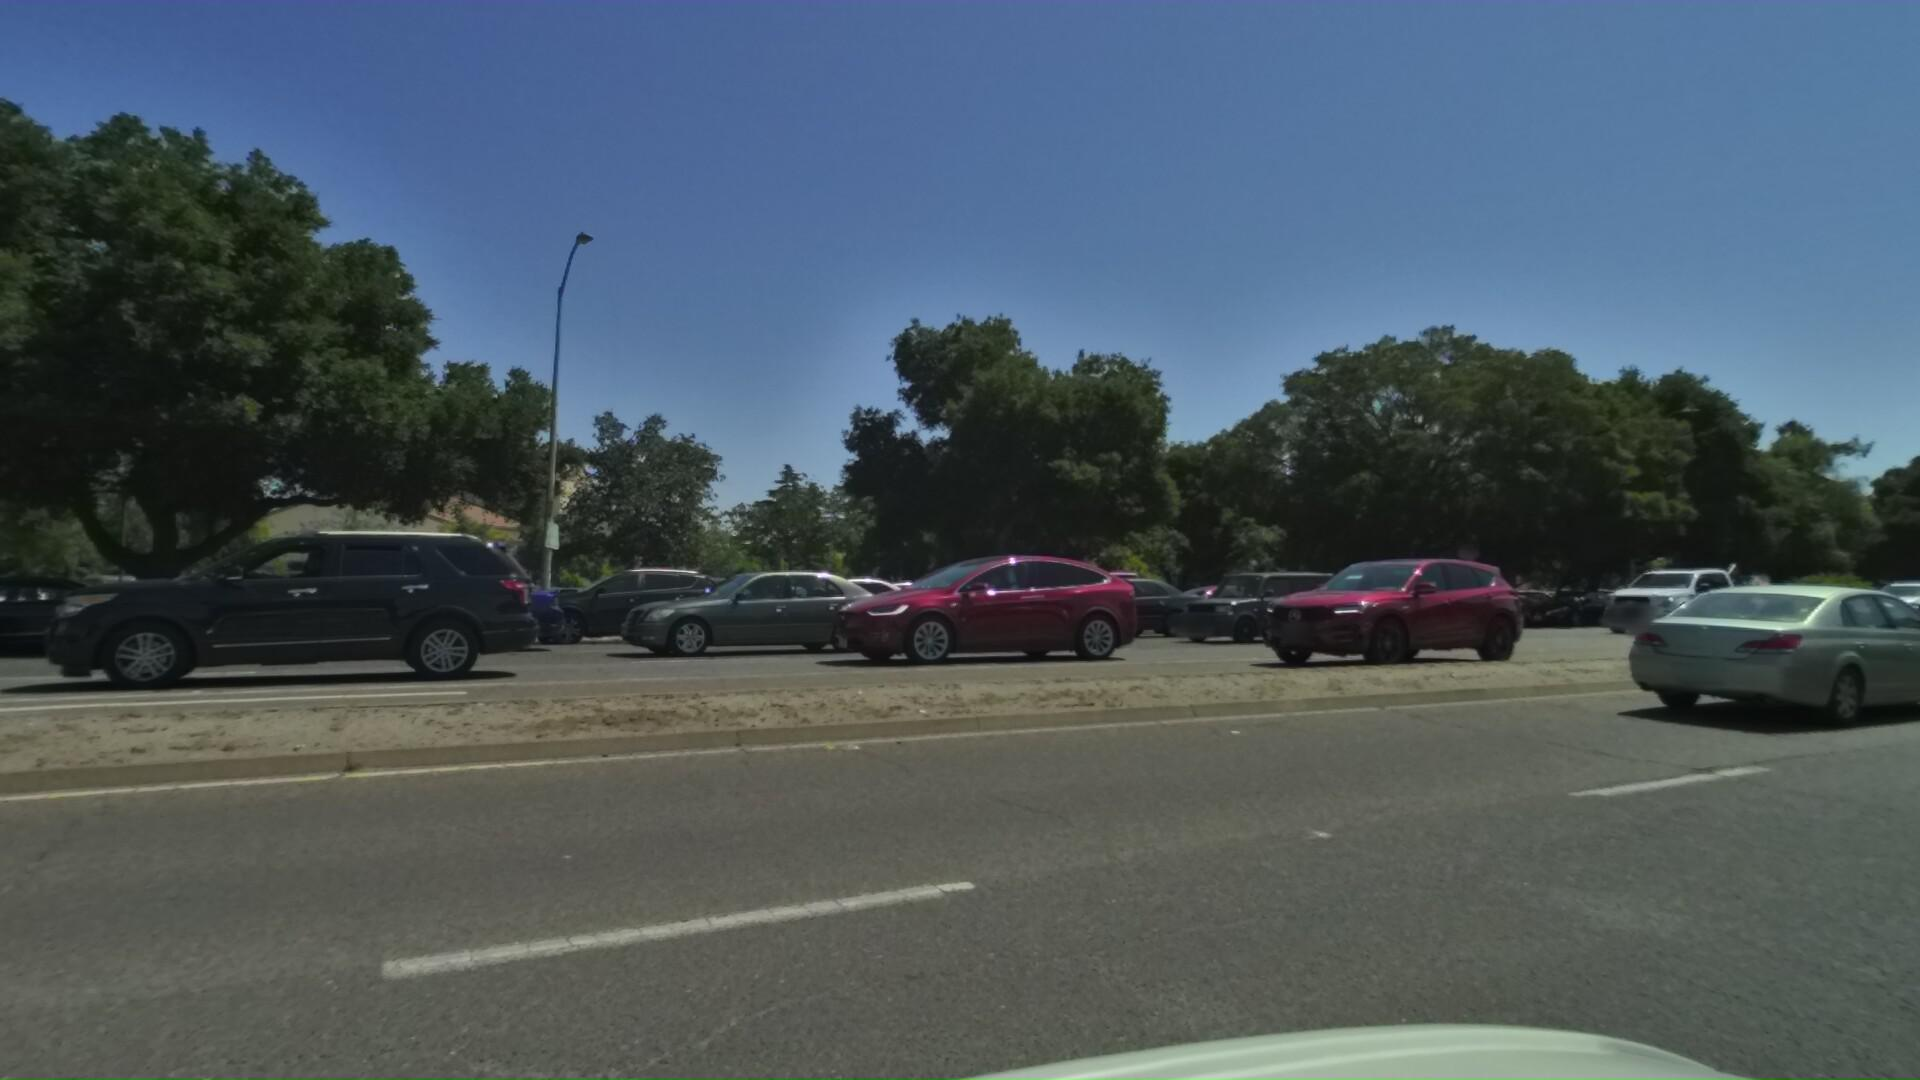car: (1619, 579, 1920, 736), (1180, 543, 1503, 675), (777, 545, 1124, 665), (208, 559, 531, 659), (568, 566, 860, 658), (484, 560, 715, 650), (733, 568, 957, 651), (1141, 563, 1328, 644), (972, 568, 1182, 636), (1569, 559, 1755, 632), (981, 563, 1149, 640), (1275, 560, 1443, 629), (1586, 554, 1741, 626), (1118, 578, 1270, 634), (1373, 580, 1509, 629), (1494, 582, 1625, 626), (1829, 571, 1920, 622), (1871, 564, 1920, 632)
